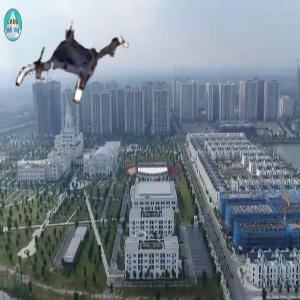drone: (16, 5, 132, 121)
